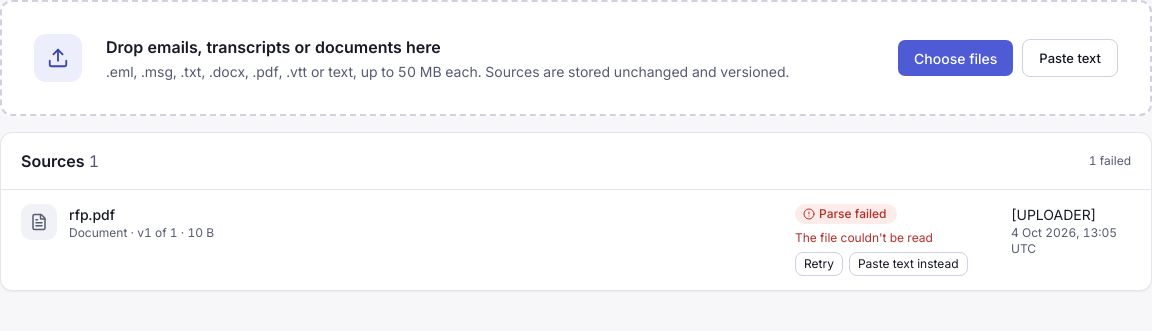
SourcesSection parsing › a failed Retry says so on the row and keeps the buttons
Click the button with aria-label "Retry: rfp.pdf". click: [819, 264]
box: x1=795 y1=252 x2=843 y2=276
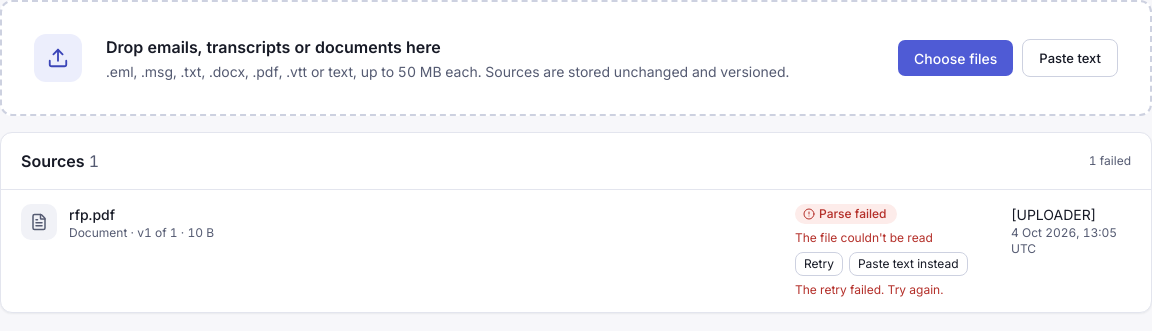
expect the text "The retry failed. Try again." is shown: met, box x1=795 y1=282 x2=943 y2=298
